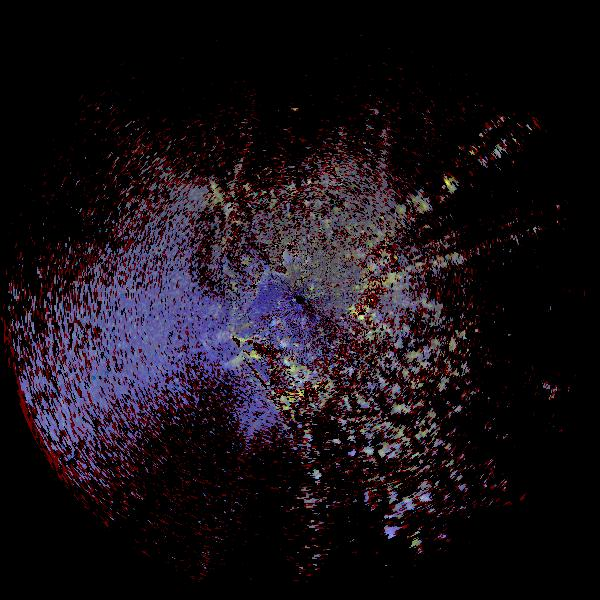roost: (288, 361, 315, 388)
